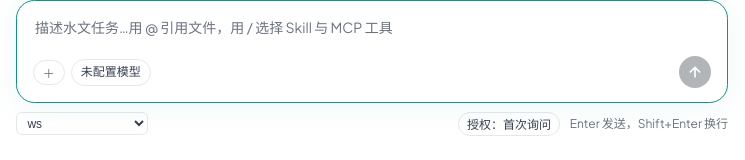
Scenario: Composer › switches from slash picker to file picker when @ is typed
Type "review /code" into the text box named "任务输入" at {"x": 372, "y": 27}, box [33,15,711,40]
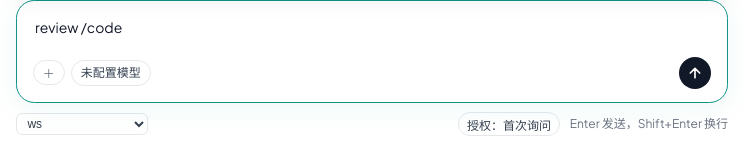
Replace the text in the text box named "任务输入" with "review /code@r" at {"x": 372, "y": 28}, box [33,15,711,41]
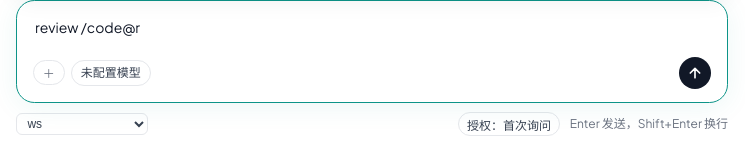
expect the text "Skills" is gone: met
